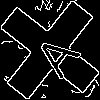A: (25, 25, 82, 80)
